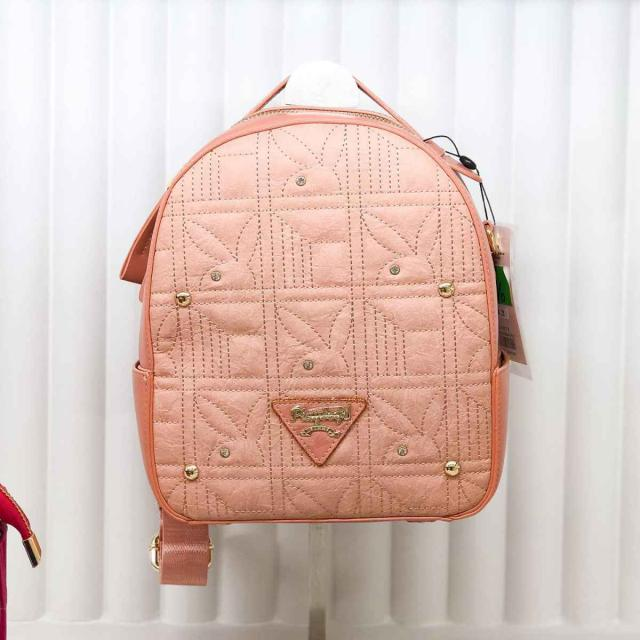Handbag: (91, 63, 523, 531)
